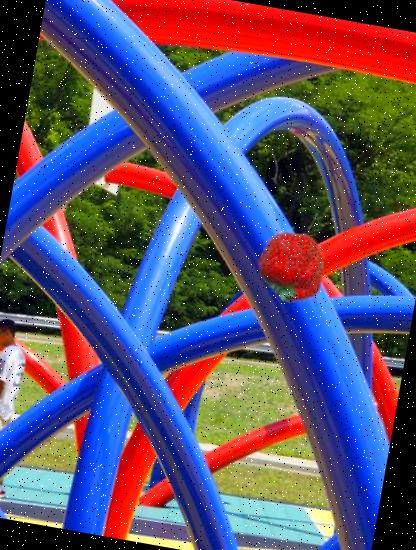Strawberry: (249, 224, 334, 310)
